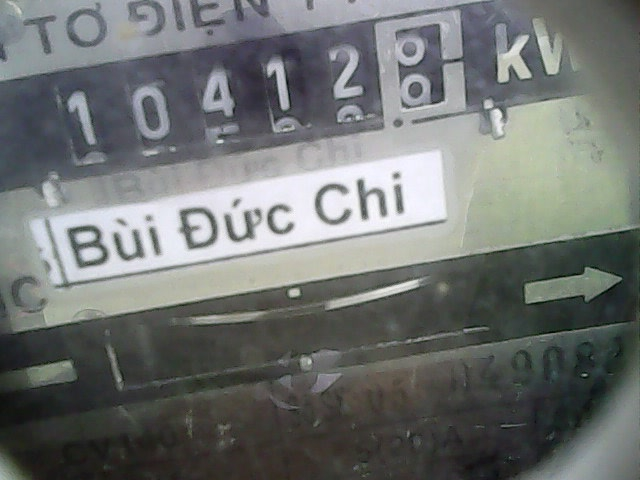phy_plate: (34, 6, 474, 155)
